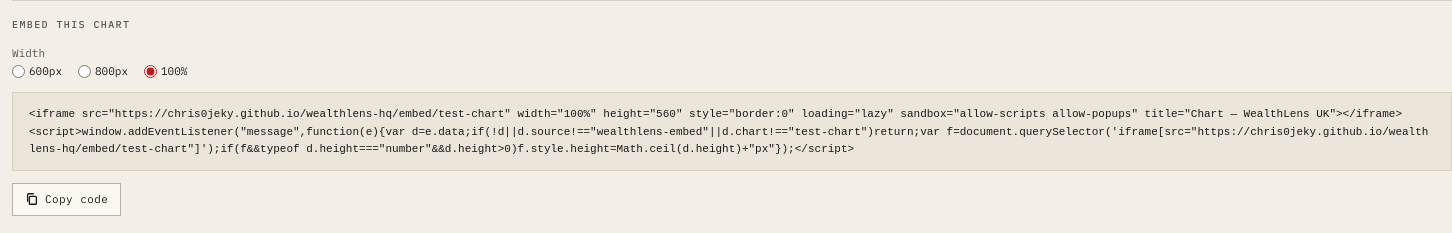
Test case: EmbedCode › shows 'Copied!' feedback after successful copy
Click the button "Copy code": click(67, 200) [12,183,121,216]
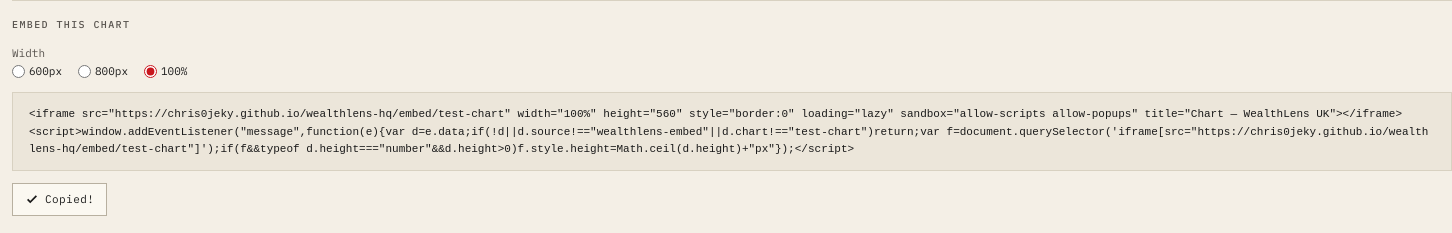
Expected: the button "Copied!" is shown, [12,183,107,216]
